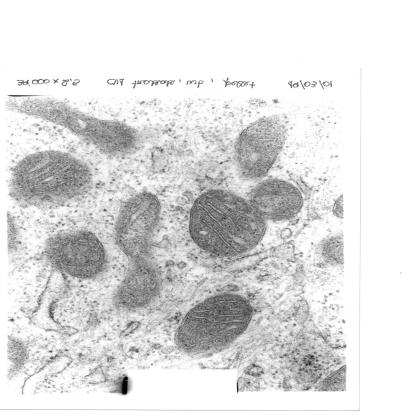mitochondria: (15, 99, 138, 156), (113, 192, 162, 310), (186, 191, 266, 256), (175, 293, 252, 358), (11, 150, 90, 204), (232, 115, 288, 180), (44, 230, 106, 280), (247, 178, 304, 222)
